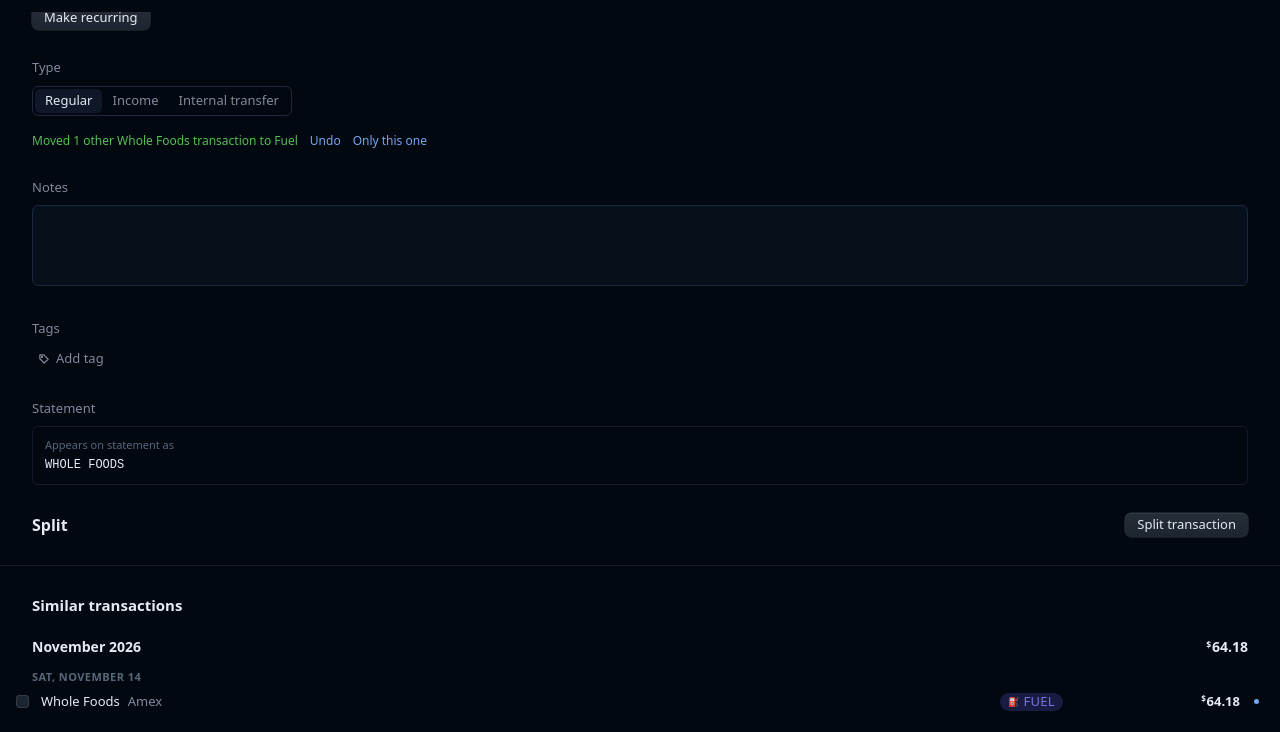
DetailPane › after a change that moved other rows, says so with Undo and Only this one
This screenshot has width=1280, height=732.
(page scrolled)
Check: the message shows "Moved 1 other Whole Foods transaction to Fuel", box [32,132,298,148]
Check: the button "Undo" is shown, box [310,132,341,150]
Step 1. Click the button "Only this one" → (390, 140), box [353,132,427,150]
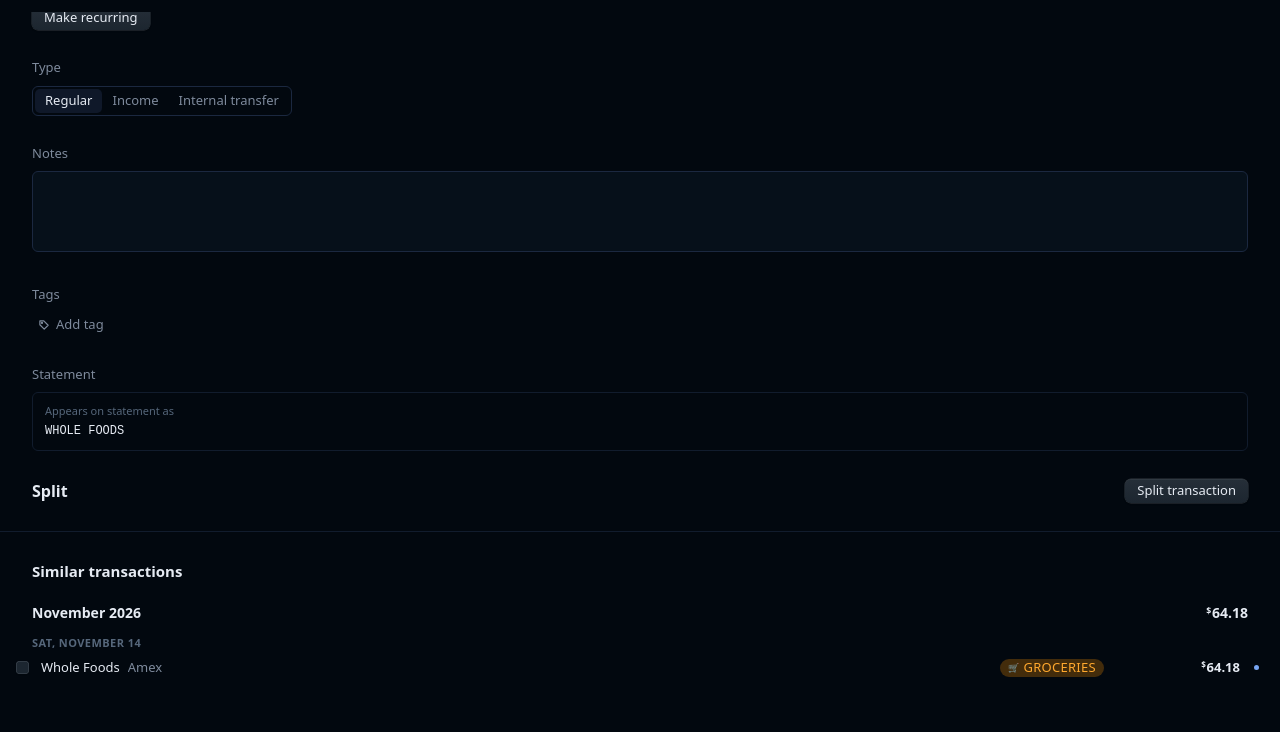
Check: the message "Moved 1 other Whole Foods transaction to Fuel Undo Only this one" is gone
